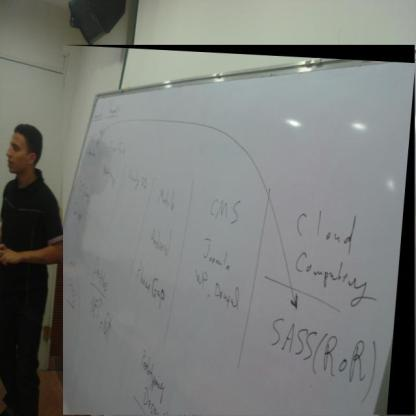Handwritten text: (269, 311, 376, 397), (292, 253, 380, 309), (179, 267, 250, 326), (292, 203, 377, 250), (189, 232, 245, 275), (136, 259, 170, 310), (204, 193, 245, 226), (149, 225, 175, 260), (156, 186, 181, 214)
Lecturer: (0, 115, 66, 415)
Whiteboard: (62, 22, 410, 416)
